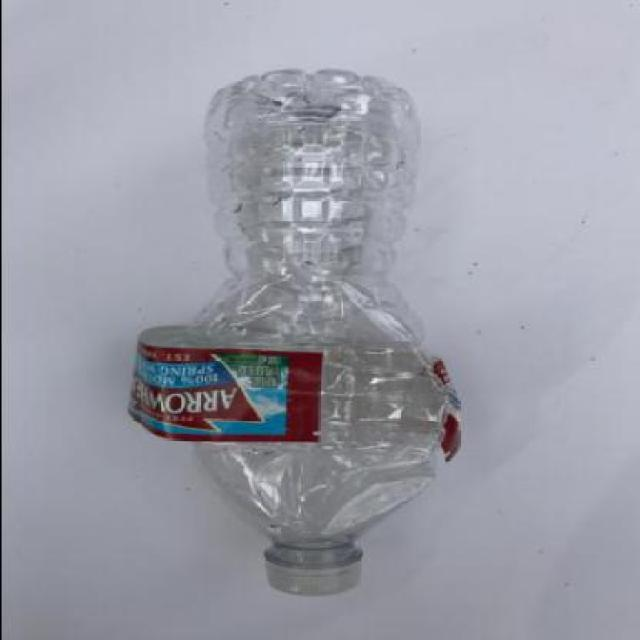PLASTIC: (188, 67, 437, 596), (132, 324, 462, 465), (264, 541, 367, 596)
